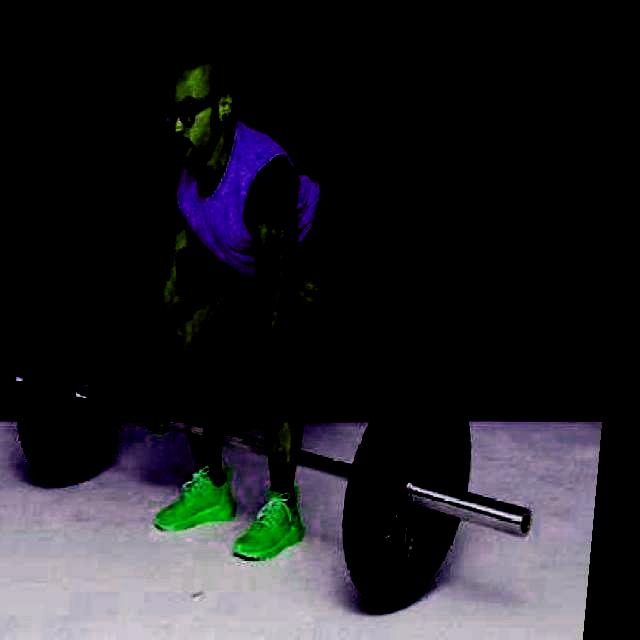barbell: (340, 385, 562, 617)
